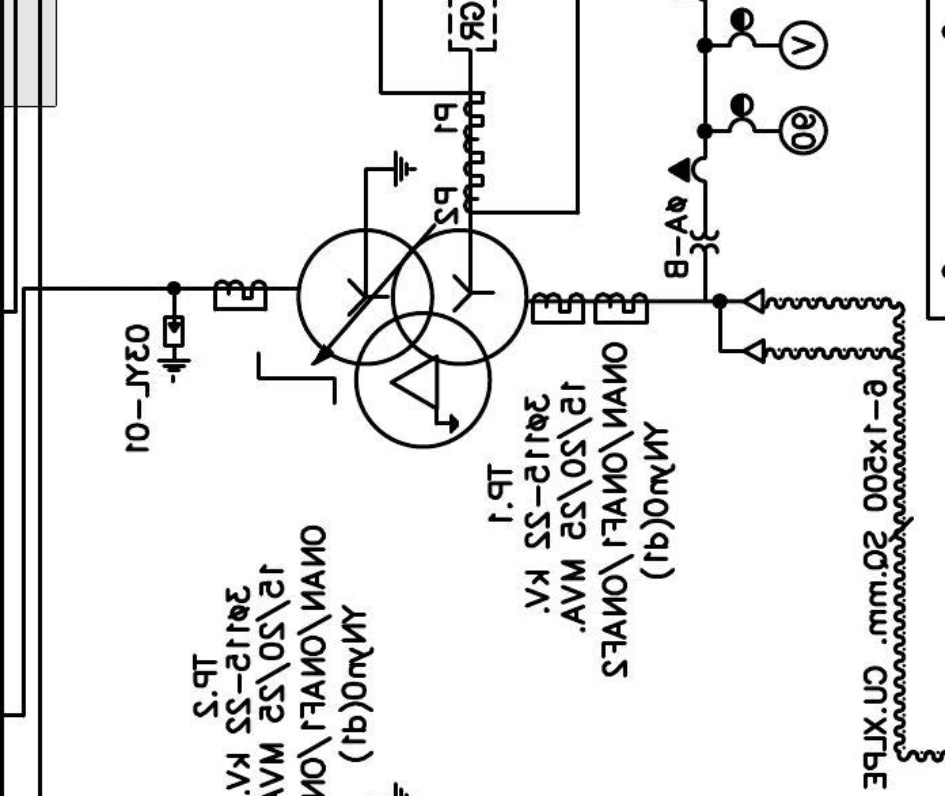11522_tx_ynyn0d1: (295, 227, 530, 451)
115_la: (156, 314, 192, 384)
terminator_double: (717, 287, 766, 365)
v_m: (777, 19, 830, 71)
